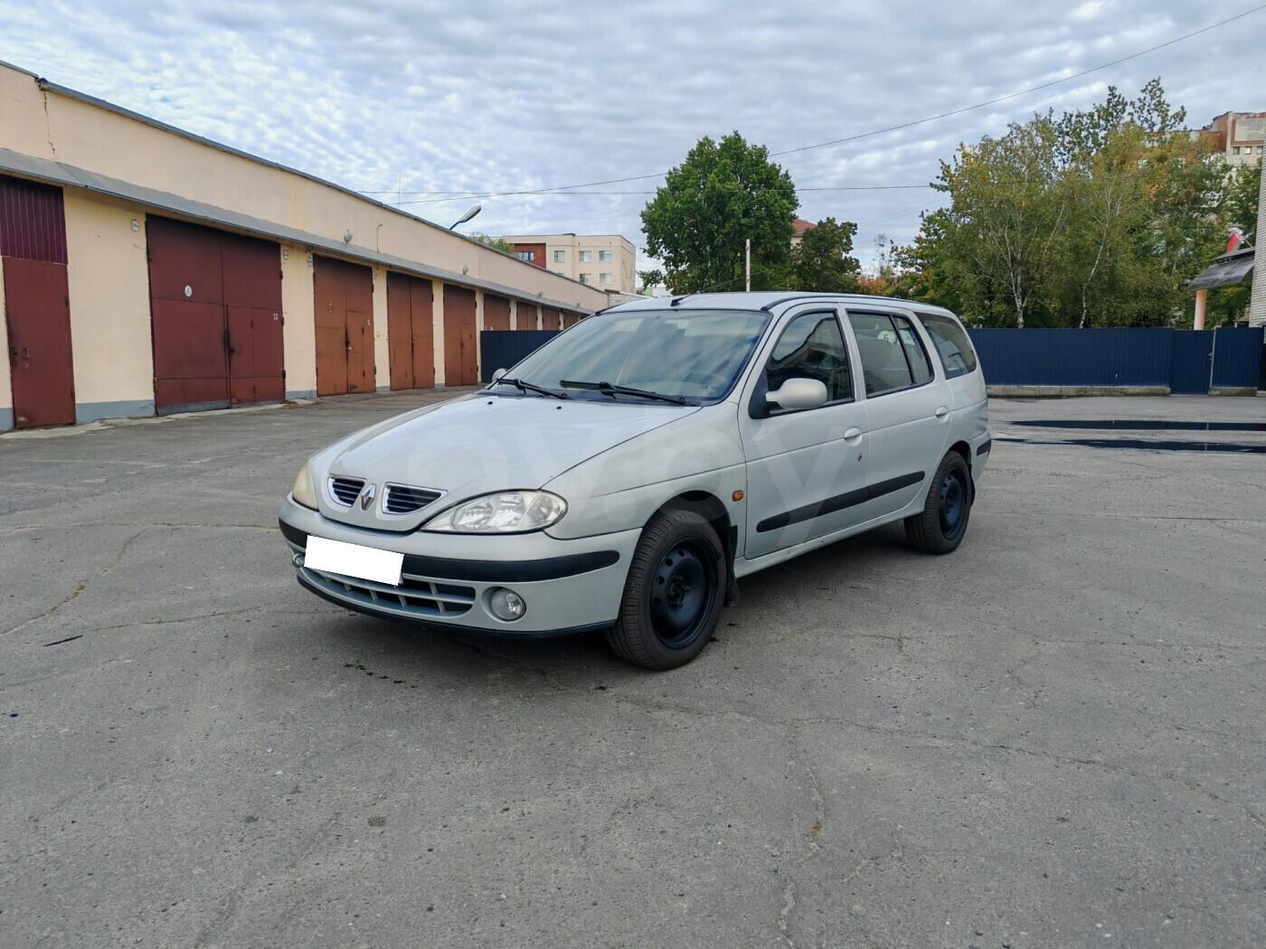Megane_1999-2003: (280, 283, 996, 664)
